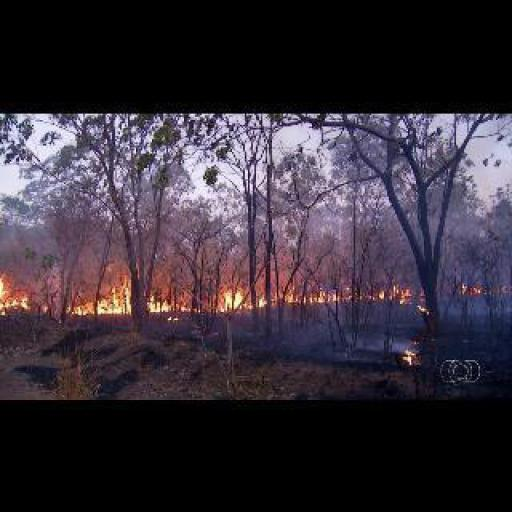smoke: (224, 275, 414, 306), (70, 268, 186, 314), (2, 283, 30, 323), (398, 347, 420, 365), (451, 282, 482, 294)
